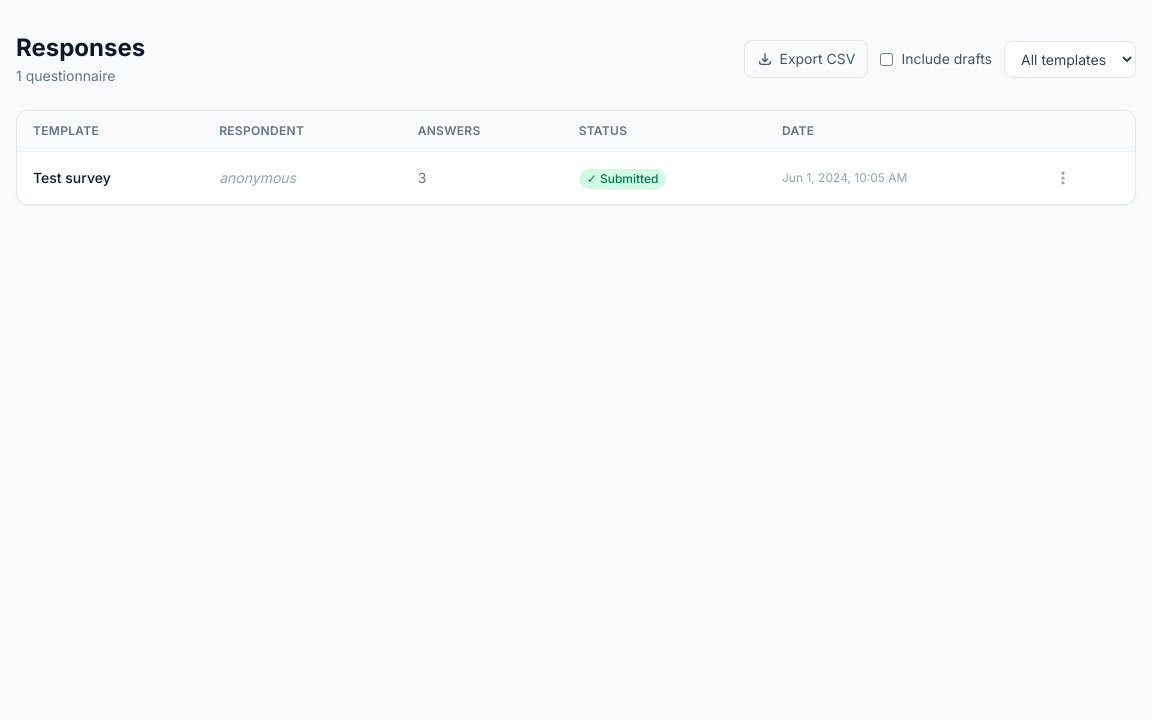
Test: ResponsesPage — detail panel › opens panel when a row is clicked
The width and height of the screenshot is (1152, 720).
Expected: the cell "Test survey" is shown, x1=17 y1=152 x2=203 y2=204
What coordinates should you click on to do the following:
click the row "Test survey anonymous 3 ✓ Submitted Jun 1, 2024, 10:05 AM"
I would click on:
 (576, 178)
Its box is x1=17 y1=152 x2=1135 y2=204.
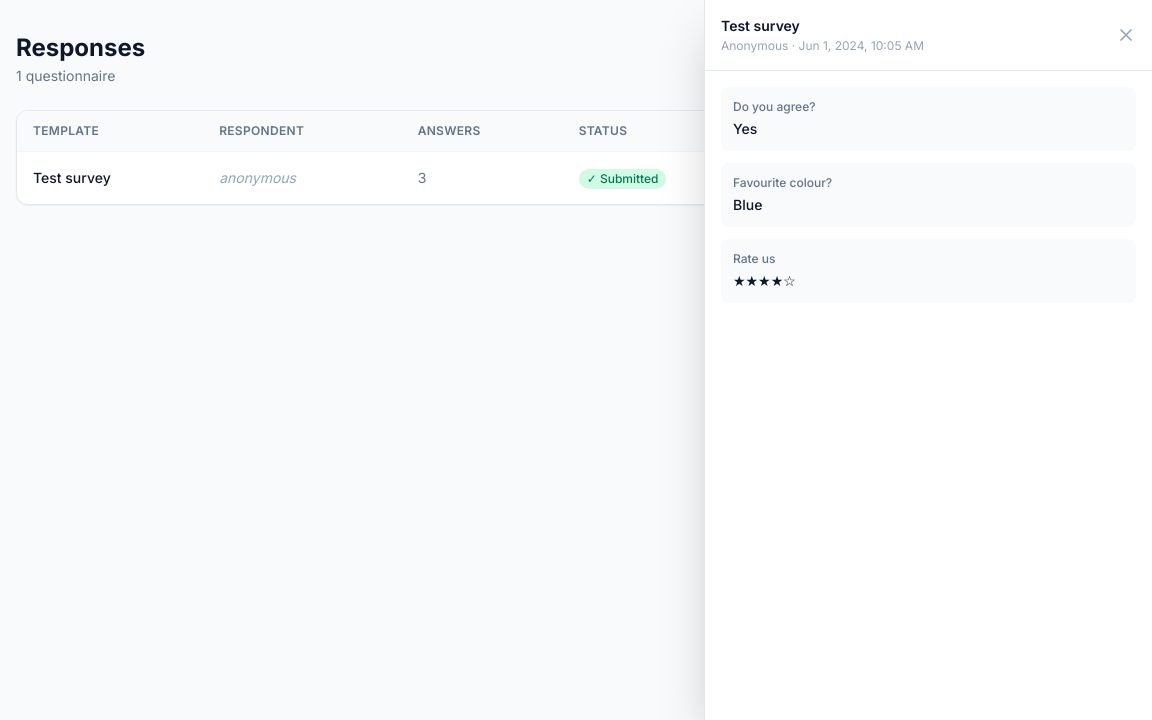
Result: the text "Do you agree?" is shown at x1=733 y1=99 x2=816 y2=114
